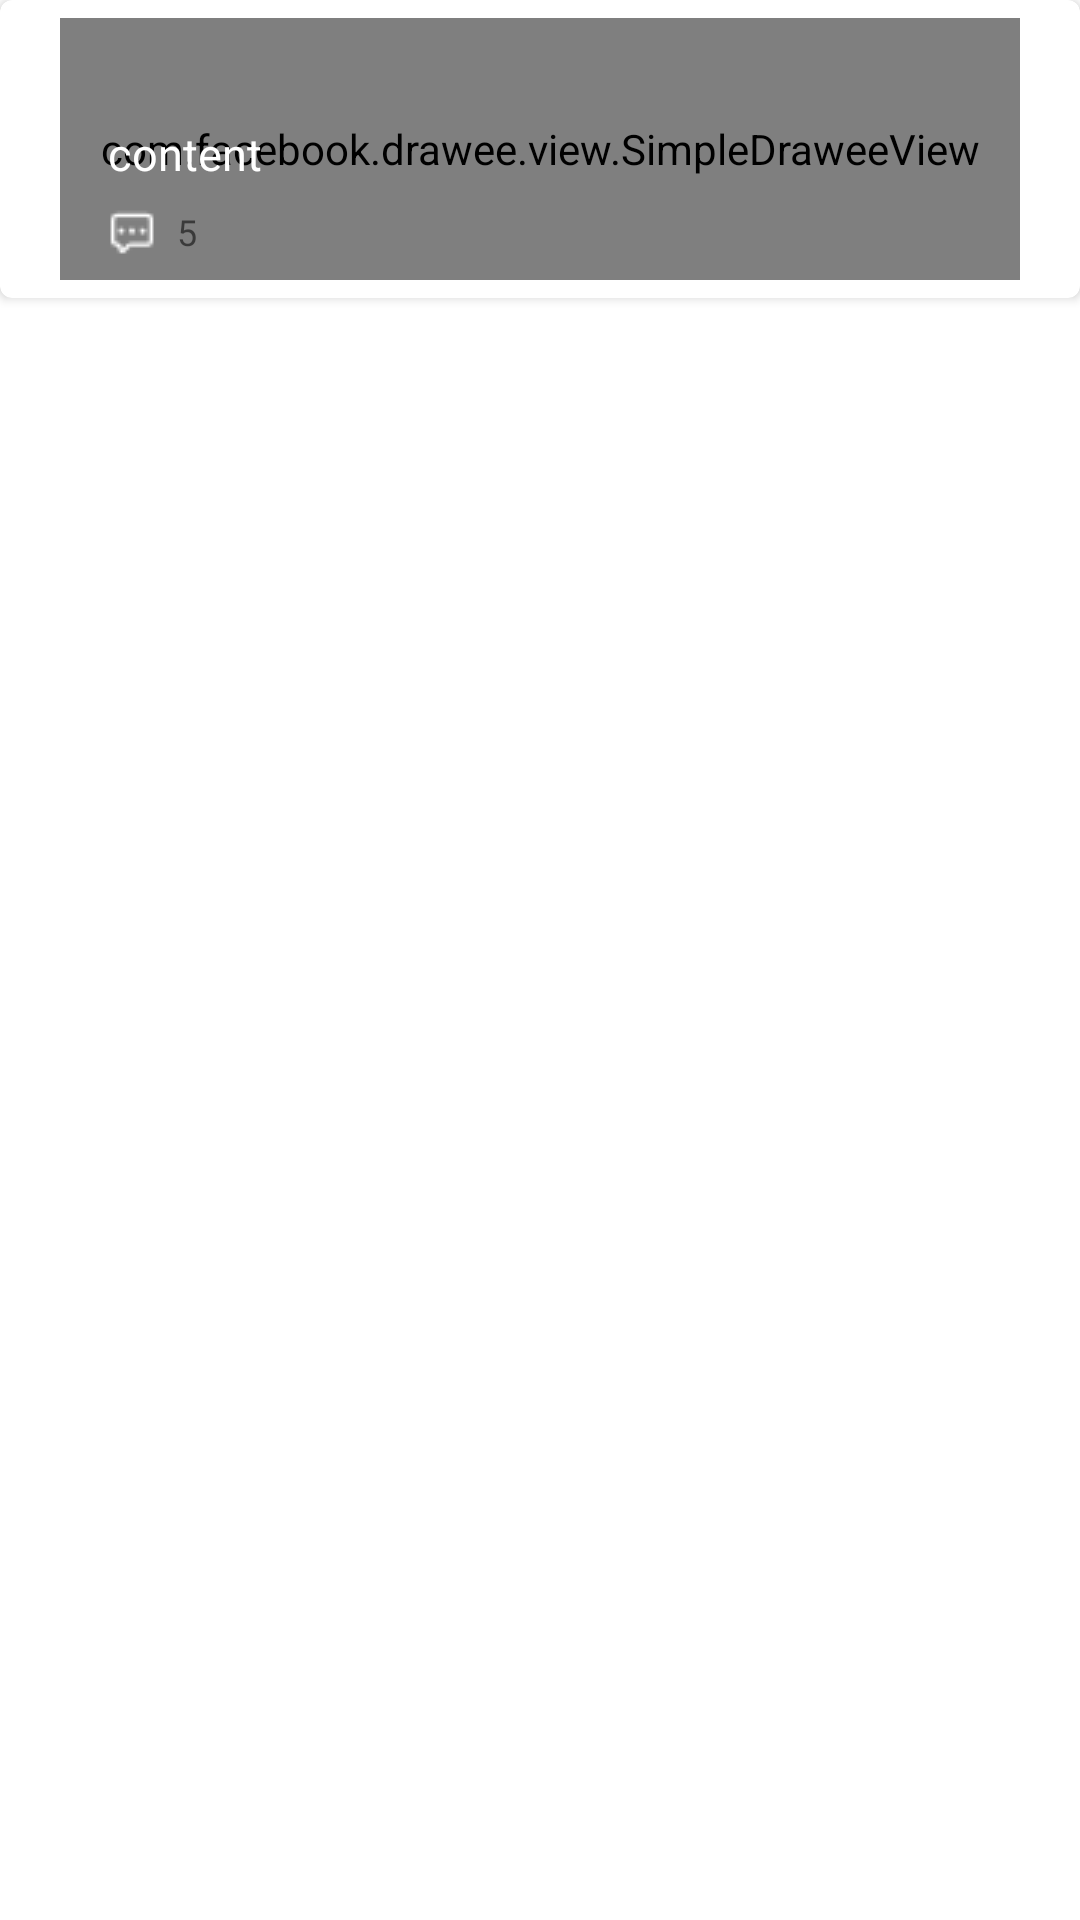

Icons on this 1080px×1920px Android screen, each with the point to tap as (x=x, y=y):
comment: (x=132, y=233)
